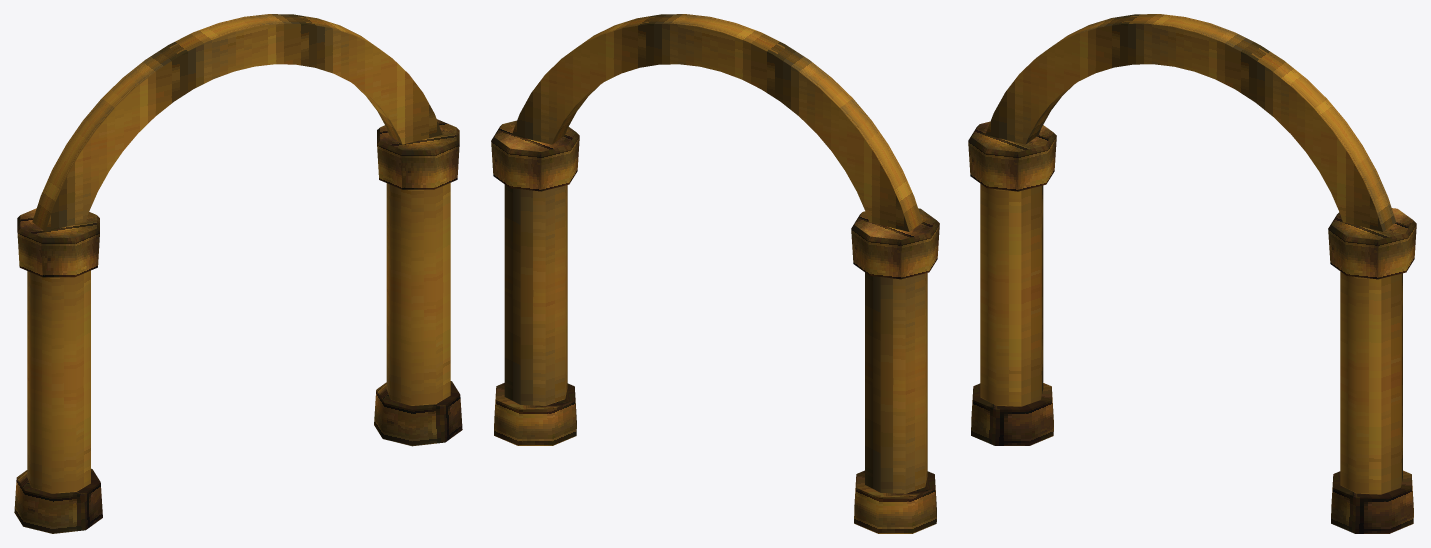
Rendered from Arch_Golden.FBX.
3 renders of one model, left to right at view 1: azimuth 30°, elevation 25°; view 2: azimuth 150°, elevation 25°; view 3: azimuth 330°, elevation 25°, orthographic.
Parts seen in each view (by area): view 1: Arc001, Cylinder005, Cylinder002, Cylinder003, Cylinder006, Cylinder001, Cylinder004; view 2: Arc001, Cylinder005, Cylinder002, Cylinder003, Cylinder006, Cylinder001, Cylinder004; view 3: Arc001, Cylinder002, Cylinder005, Cylinder006, Cylinder003, Cylinder004, Cylinder001.
Boxes of the visible parts, x1,y1,x2,y2 form: Arc001: [32, 14, 442, 231]; Cylinder005: [386, 183, 450, 405]; Cylinder002: [27, 270, 90, 493]; Cylinder003: [17, 208, 99, 277]; Cylinder006: [377, 119, 459, 189]; Cylinder001: [14, 468, 102, 533]; Cylinder004: [374, 381, 462, 446]; Arc001: [512, 14, 922, 231]; Cylinder005: [504, 184, 567, 405]; Cylinder002: [865, 272, 927, 493]; Cylinder003: [851, 208, 939, 279]; Cylinder006: [491, 120, 579, 191]; Cylinder001: [854, 470, 936, 533]; Cylinder004: [494, 383, 576, 445]; Arc001: [985, 14, 1395, 231]; Cylinder002: [980, 183, 1043, 406]; Cylinder005: [1340, 271, 1402, 494]; Cylinder006: [1328, 208, 1416, 279]; Cylinder003: [968, 121, 1056, 191]; Cylinder004: [1331, 470, 1413, 533]; Cylinder001: [971, 383, 1053, 445].
Bounding box in the file's own units: 233 × 228 × 41.
